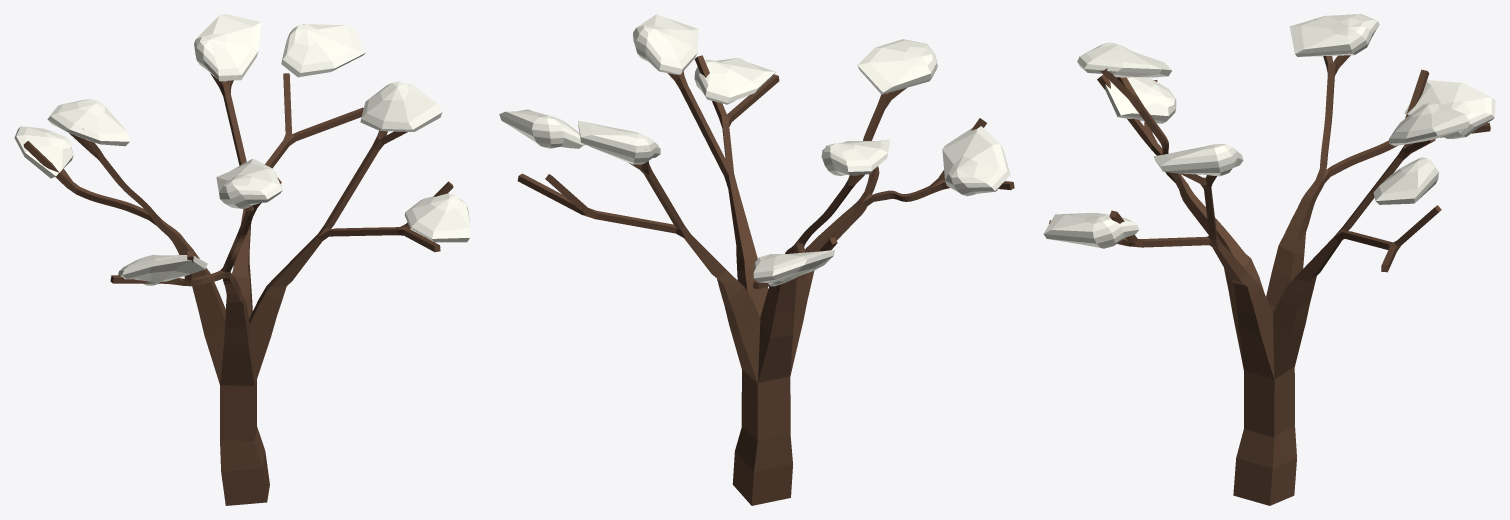
Rendered from village-tree.fbx.
The picture shows the model from 3 angles, left to right: view 1: azimuth 30°, elevation 25°; view 2: azimuth 150°, elevation 25°; view 3: azimuth 270°, elevation 25°; orthographic projection. The views are drawn at different scales.
Visible parts, largest first — view 1: Sphere.010; view 2: Sphere.010; view 3: Sphere.010.
Part boxes in pixels (x1,y1,x2,y2): Sphere.010: (14,14,470,505); Sphere.010: (499,14,1014,505); Sphere.010: (1043,14,1495,505).
Size of the model in its own units: 615 by 636 by 619.
